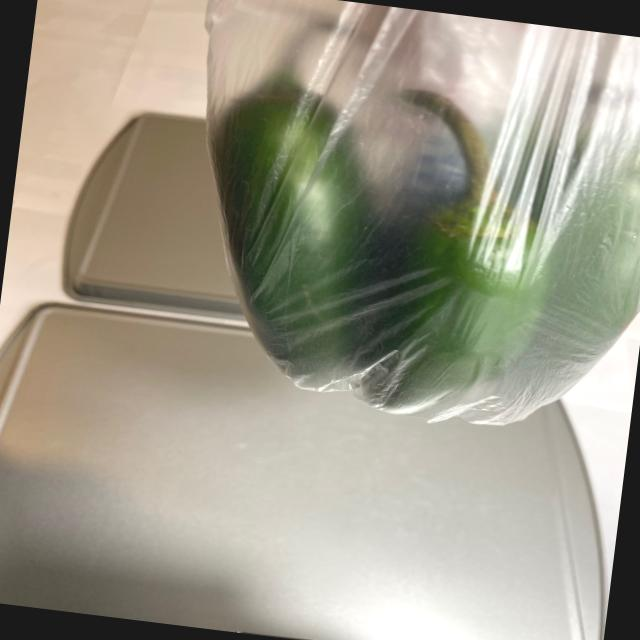chilli: (180, 0, 640, 445)
